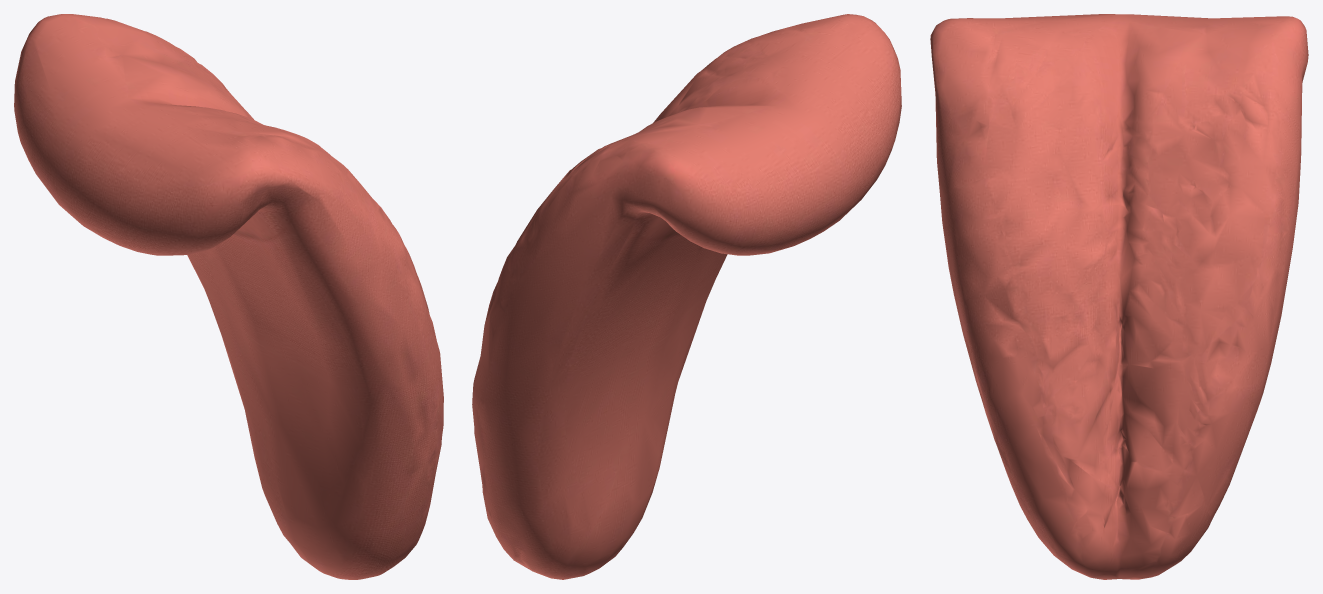
File: jenny-tongue.glb
3 views of the same model, side by side, from view 1: azimuth 30°, elevation 25°; view 2: azimuth 150°, elevation 25°; view 3: azimuth 270°, elevation 25° (orthographic). The views are drawn at different scales.
Parts seen in each view (by area): view 1: tripo_node_3ab7ea1c-405e-4a30-9563-286fee8d961b; view 2: tripo_node_3ab7ea1c-405e-4a30-9563-286fee8d961b; view 3: tripo_node_3ab7ea1c-405e-4a30-9563-286fee8d961b.
Boxes of the visible parts, <box> form: tripo_node_3ab7ea1c-405e-4a30-9563-286fee8d961b: <box>14,14,443,579</box>; tripo_node_3ab7ea1c-405e-4a30-9563-286fee8d961b: <box>472,14,901,579</box>; tripo_node_3ab7ea1c-405e-4a30-9563-286fee8d961b: <box>930,14,1308,579</box>.
Bounding box in the file's own units: 0.6396 × 0.9791 × 0.7075.
Materials: 1 (1 with a texture image).
